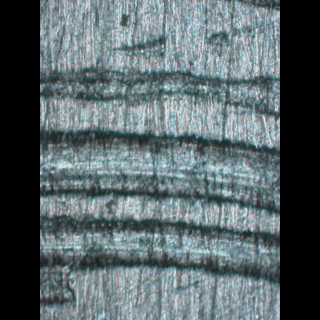d: (40, 51, 279, 295)
